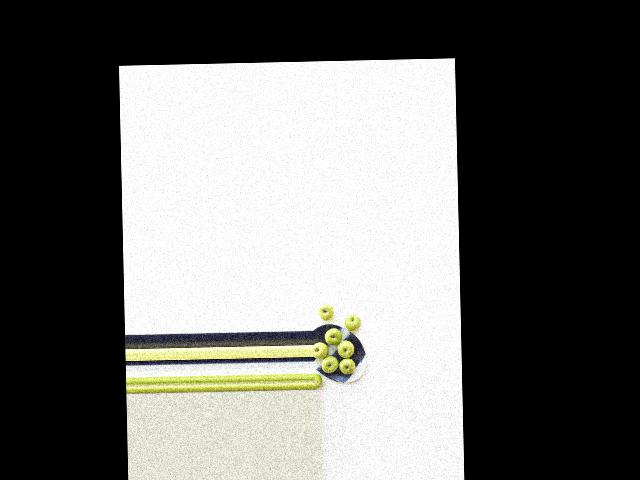apple: (338, 357, 357, 374)
